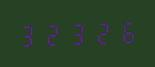six: (114, 18, 137, 44)
three: (18, 22, 41, 48), (66, 20, 89, 46)
two: (42, 21, 65, 47), (90, 19, 113, 45)
